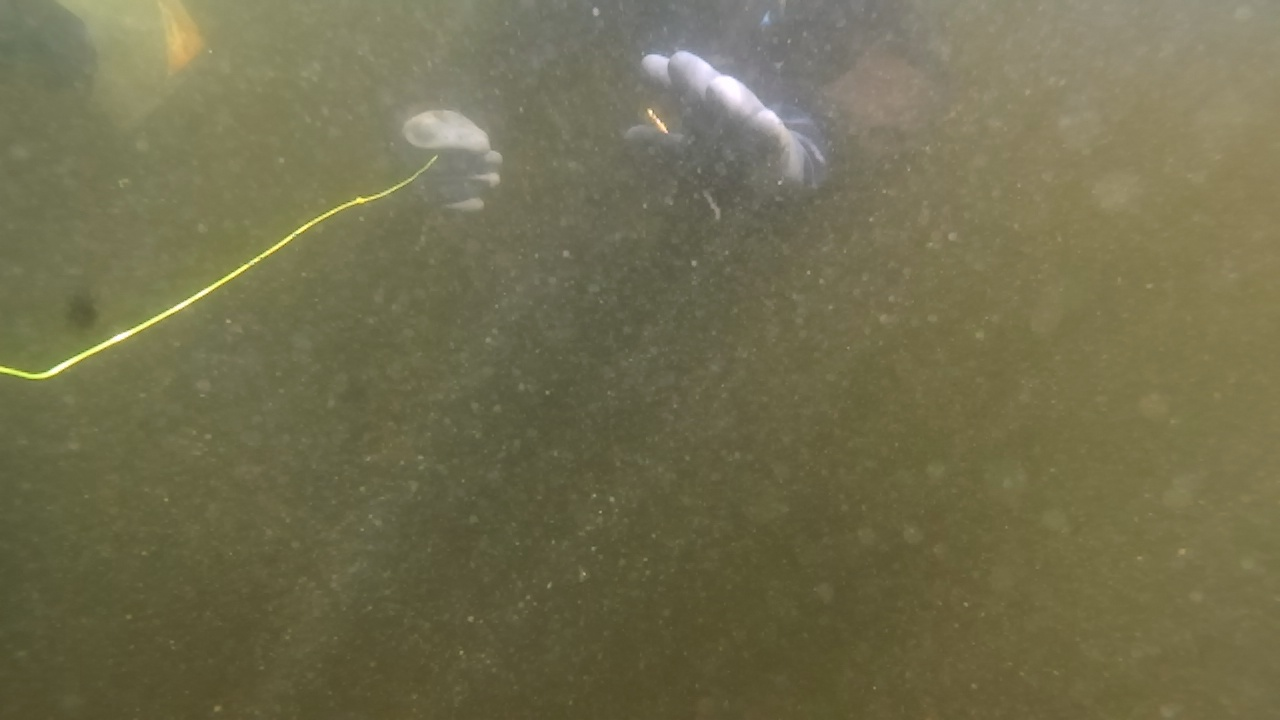Hand: (600, 36, 850, 232), (360, 94, 514, 242)
